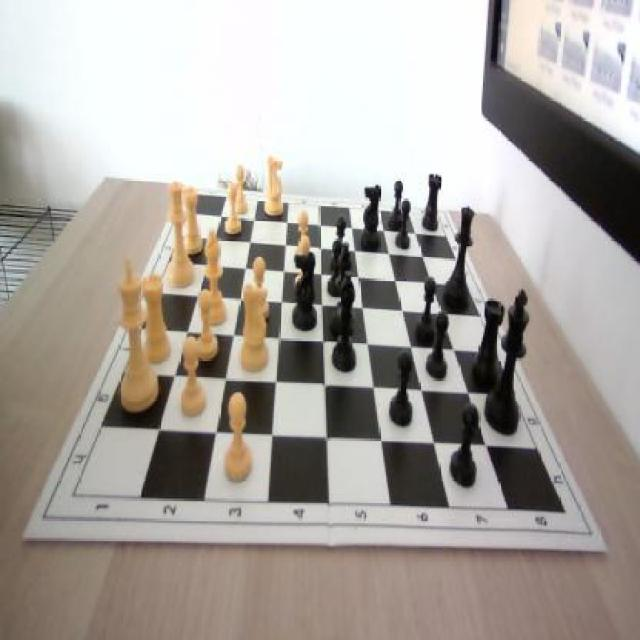bishop: (332, 270, 360, 376), (332, 246, 356, 337)
black-bishop: (483, 288, 530, 437)
black-king: (291, 250, 321, 332), (357, 183, 381, 251)
black-knight: (448, 404, 480, 492), (390, 352, 416, 432), (414, 272, 438, 347), (424, 312, 448, 386), (331, 214, 349, 282), (326, 240, 346, 295), (394, 198, 413, 252), (388, 174, 404, 231)
black-pawn: (443, 206, 476, 312)
black-queen: (470, 297, 504, 391), (422, 169, 442, 234)
black-rook: (198, 229, 228, 330)
white-bishop: (109, 257, 162, 416), (240, 284, 272, 376), (262, 154, 284, 216)
white-knight: (219, 390, 253, 488), (176, 332, 208, 420), (191, 288, 221, 362), (246, 252, 272, 322), (290, 238, 314, 300), (292, 212, 312, 272), (220, 182, 242, 236), (232, 162, 247, 216)
white-pawn: (159, 182, 196, 290)
white-queen: (140, 274, 172, 364), (183, 184, 203, 254)
